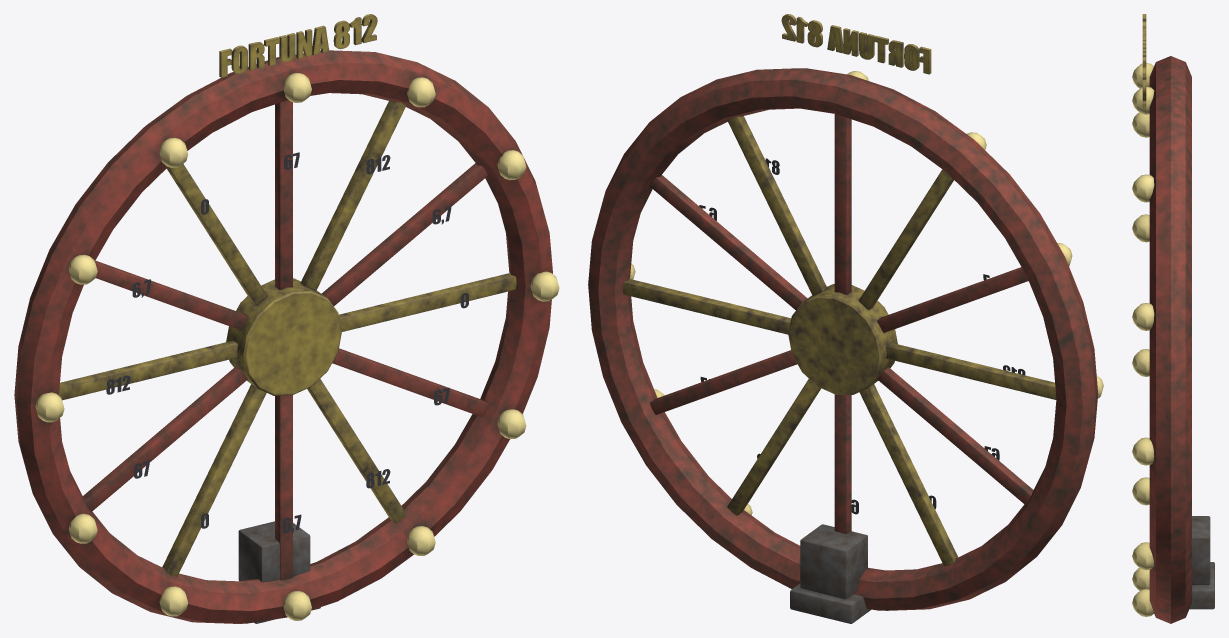
The model's file is g67_pz_fortuna_wheel.glb.
3 views of the same model, side by side, from view 1: azimuth 30°, elevation 25°; view 2: azimuth 150°, elevation 25°; view 3: azimuth 270°, elevation 25° (orthographic). The views are drawn at different scales.
Visible parts, largest first — view 1: g67_pz_fortuna_wheel, fortuna_sign_wheel; view 2: fortuna_sign_wheel, g67_pz_fortuna_wheel; view 3: fortuna_sign_wheel, g67_pz_fortuna_wheel.
Part boxes in pixels (x1,y1,x2,y2): g67_pz_fortuna_wheel: [35, 14, 559, 623]; fortuna_sign_wheel: [14, 50, 552, 623]; fortuna_sign_wheel: [588, 68, 1098, 610]; g67_pz_fortuna_wheel: [623, 14, 1103, 623]; fortuna_sign_wheel: [1149, 56, 1191, 623]; g67_pz_fortuna_wheel: [1132, 14, 1214, 616].
Bounding box in the file's own units: 3.24 × 3.45 × 0.47.
Materials: 1 (1 with a texture image).
